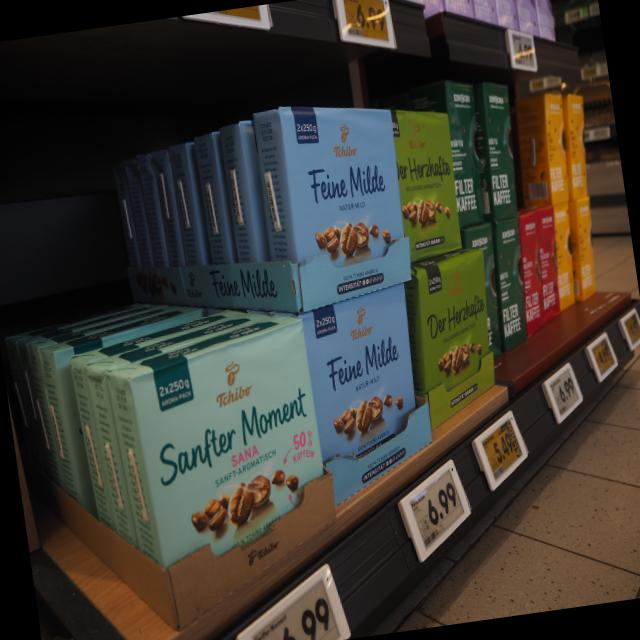Empty Shelf: (77, 114, 289, 381)
FM Gemahlen: (302, 282, 425, 508), (282, 104, 413, 311)
Herzhatfe Mundig: (415, 248, 496, 429), (389, 109, 463, 262)
SM Gemahlen: (127, 315, 336, 631)
